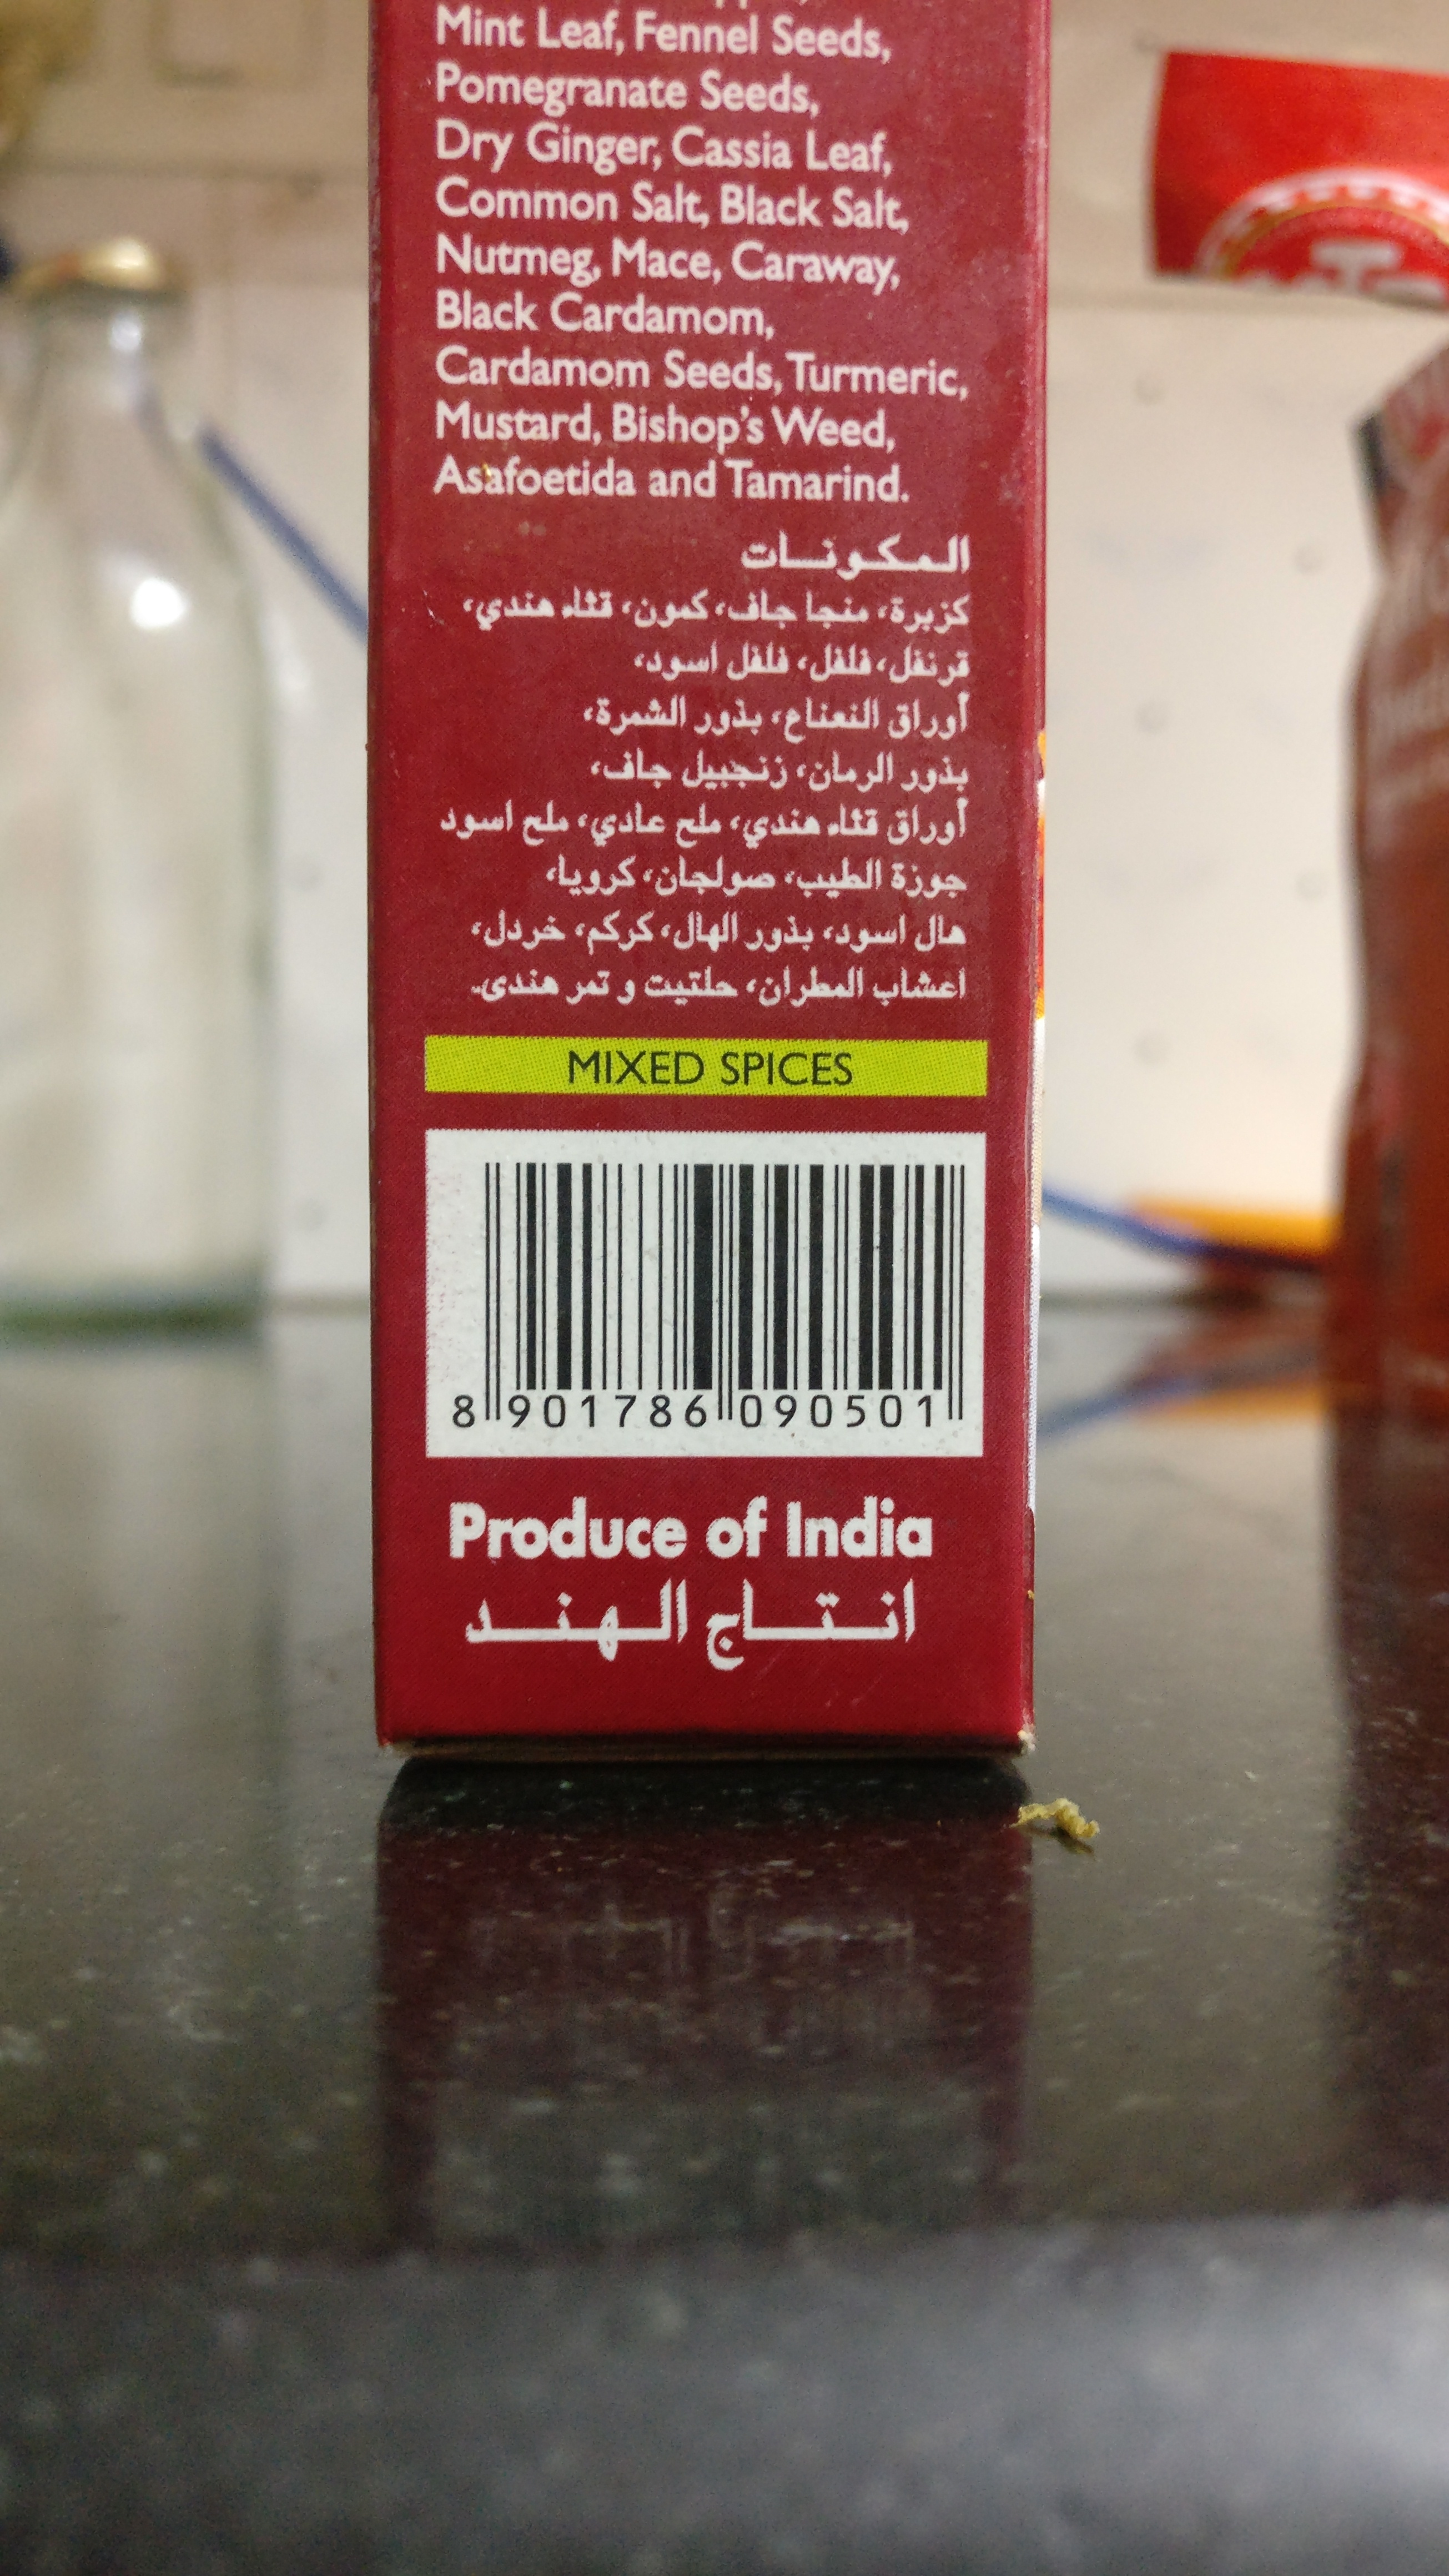barcode: (414, 1118, 994, 1445)
